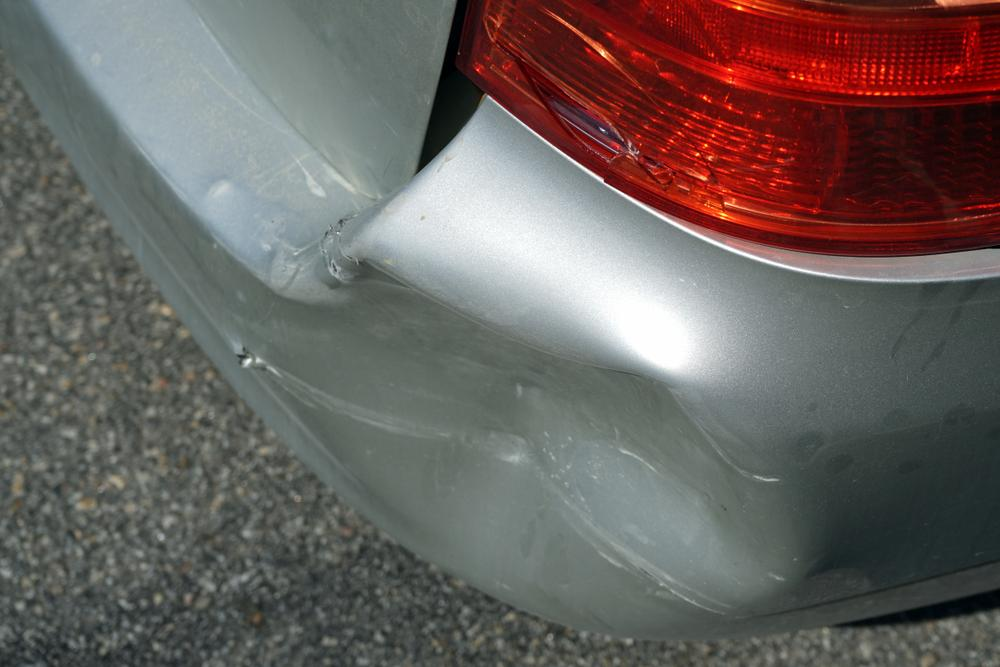dent: (246, 256, 798, 626)
lamp broken: (448, 0, 1000, 258)
